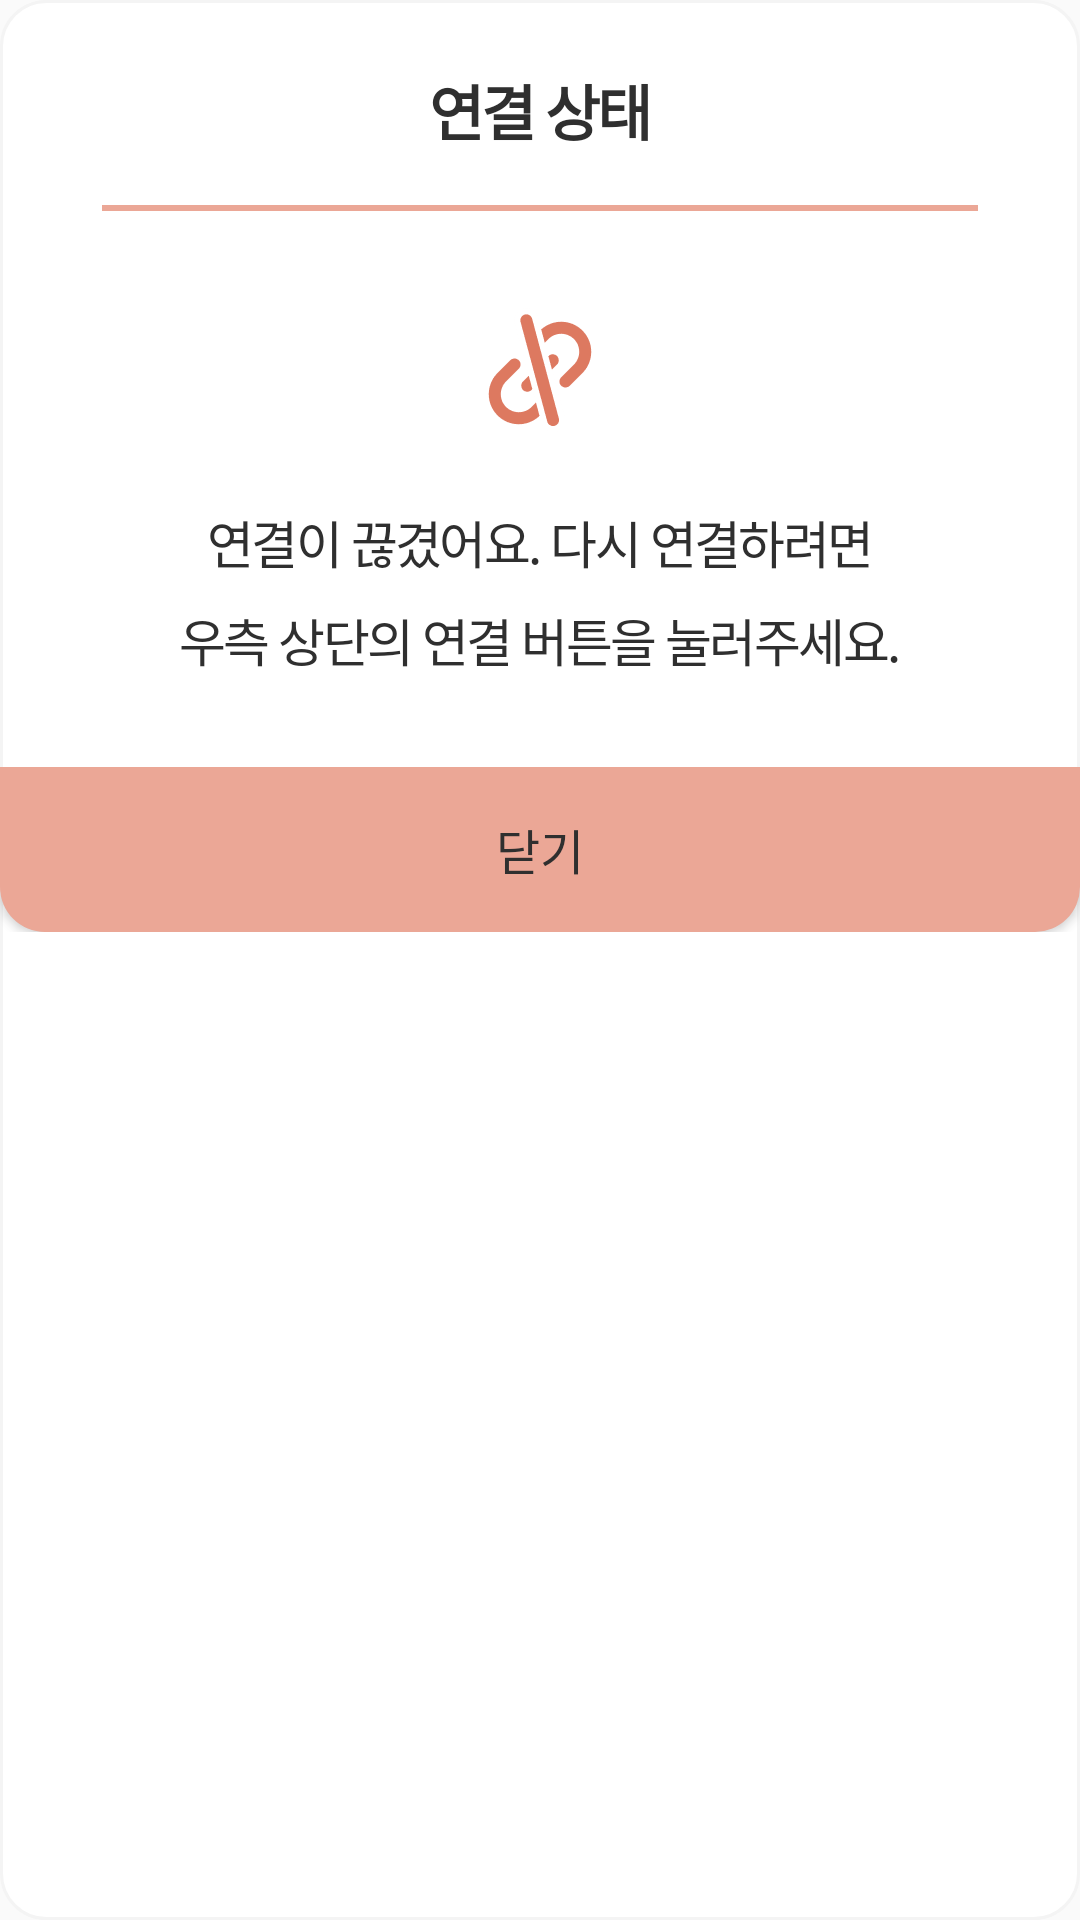

Icon click points for this 1080×1920 phone screenshot, format (x=x, y=y):
not connected: (x=540, y=370)
